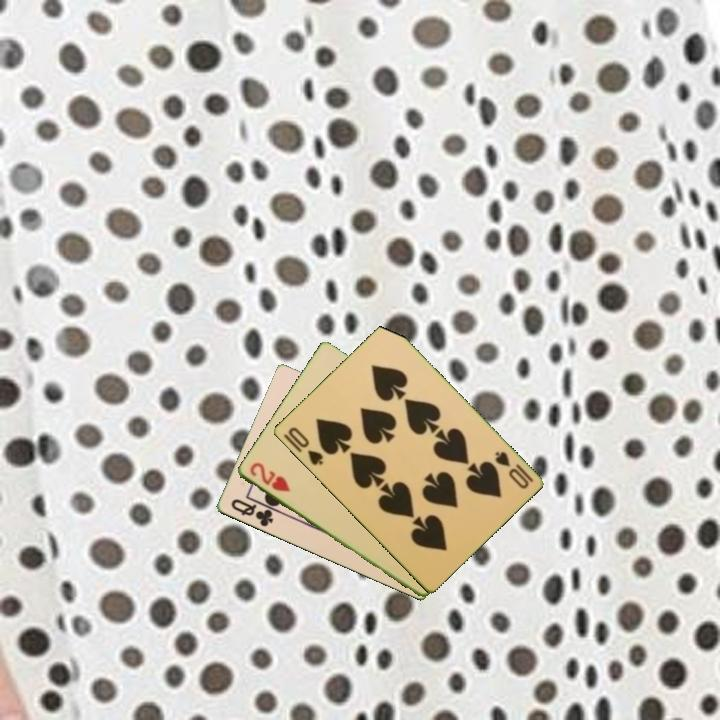10s: (491, 447, 536, 492), (284, 423, 326, 468)
2h: (246, 459, 293, 495)
Qc: (227, 495, 276, 530)
